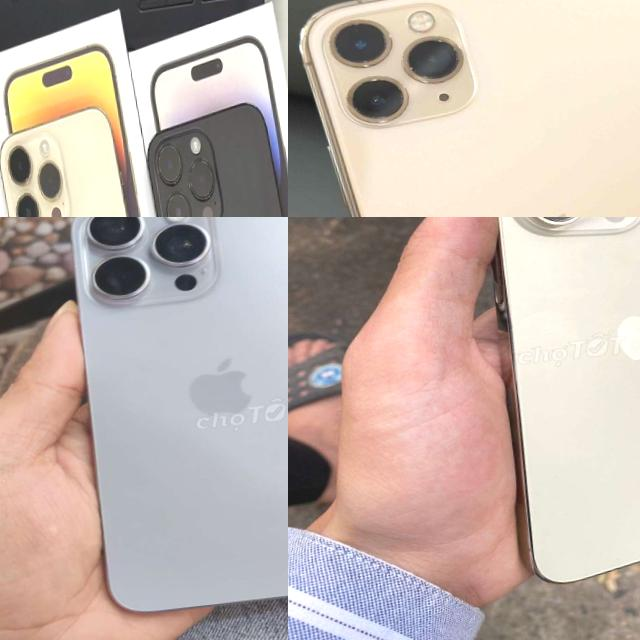gen_11: (288, 0, 640, 217)
gen_14: (460, 217, 640, 590)
gen_15: (44, 217, 288, 639)
